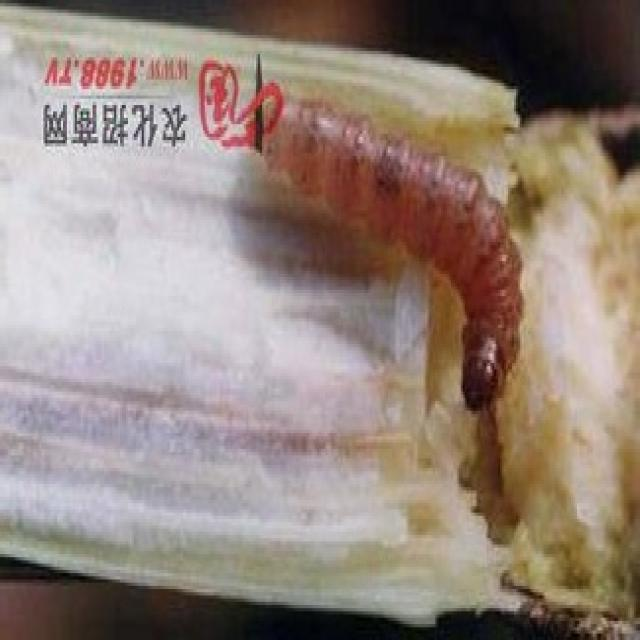peach borer: (242, 100, 528, 412)
